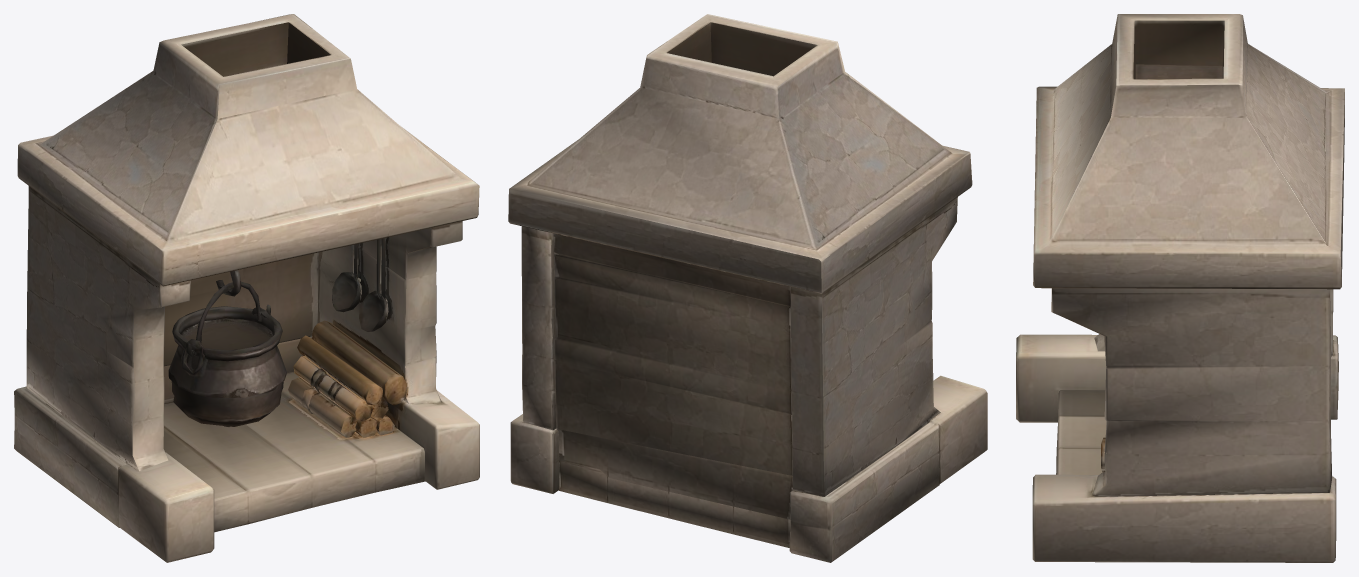
Rendered from act1_kit_v1_kitchen_hearth.glb.
3 renders of one model, left to right at view 1: azimuth 30°, elevation 25°; view 2: azimuth 150°, elevation 25°; view 3: azimuth 270°, elevation 25°, orthographic. The views are drawn at different scales.
Parts seen in each view (by area): view 1: A11_5_kitchen_hearth; view 2: A11_5_kitchen_hearth; view 3: A11_5_kitchen_hearth.
Part boxes in pixels (x1,y1,x2,y2): A11_5_kitchen_hearth: (14,14,479,562); A11_5_kitchen_hearth: (508,14,987,562); A11_5_kitchen_hearth: (1016,14,1344,562).
Size of the model in its own units: 0.8099 by 1 by 0.6803.
1 material, 1 textured.
